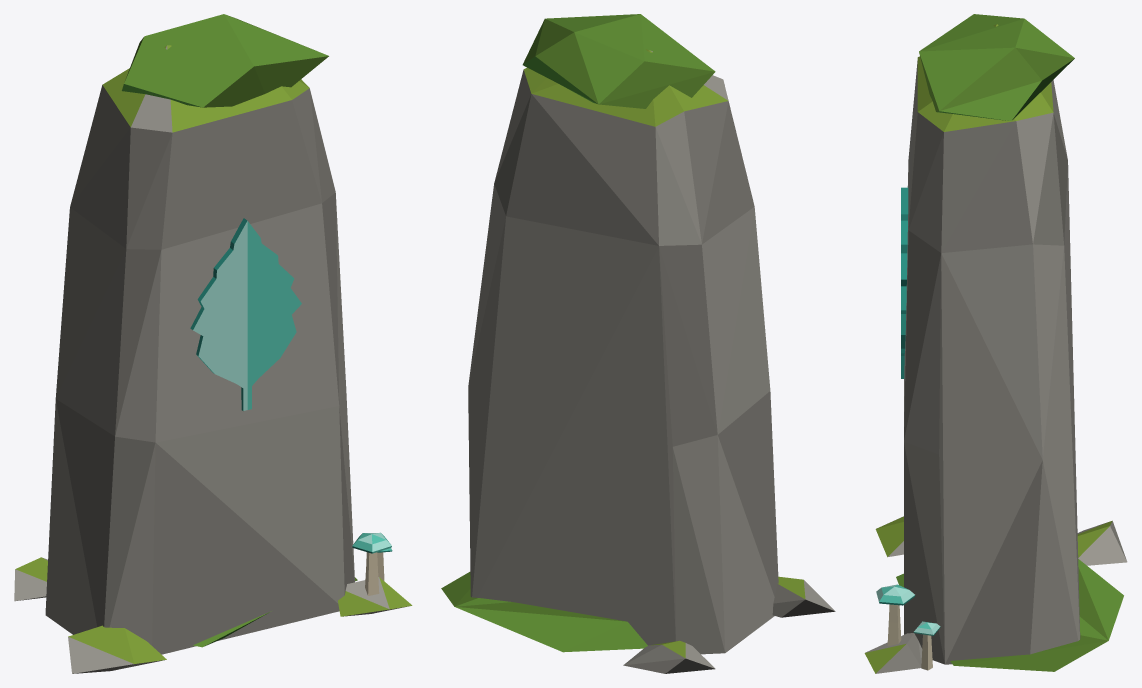
File: boon_shrine.glb
The picture shows the model from 3 angles, left to right: view 1: azimuth 30°, elevation 25°; view 2: azimuth 150°, elevation 25°; view 3: azimuth 270°, elevation 25°; orthographic projection.
Parts seen in each view (by area): view 1: boon_shrine; view 2: boon_shrine; view 3: boon_shrine.
Part boxes in pixels (<box>): boon_shrine: <box>14,14,412,673</box>; boon_shrine: <box>441,14,835,673</box>; boon_shrine: <box>864,14,1127,673</box>.
Size of the model in its own units: 0.8172 by 1.35 by 0.5645.
